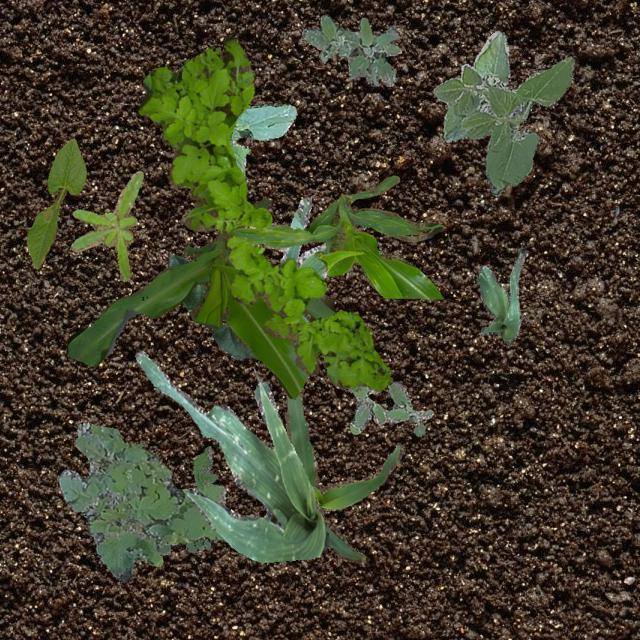crop: (66, 198, 336, 398), (134, 349, 328, 562), (232, 175, 442, 298), (432, 29, 574, 194), (284, 388, 404, 562), (166, 253, 256, 359), (26, 138, 86, 268), (280, 196, 326, 322), (220, 102, 296, 174), (476, 244, 526, 344)
weed: (137, 36, 390, 390), (58, 422, 224, 580), (138, 446, 216, 560), (70, 170, 142, 280), (300, 14, 400, 86), (347, 380, 432, 436)
